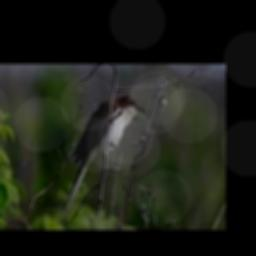Cuckoo: (62, 94, 146, 219)
